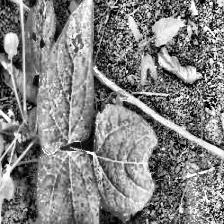ALS: (0, 132, 52, 205)
